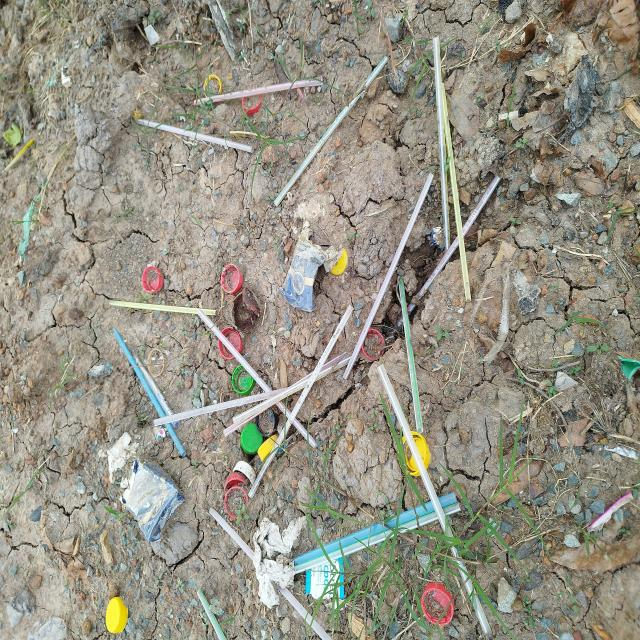drinking straw: (377, 363, 493, 634), (248, 306, 354, 499), (343, 173, 434, 380), (273, 55, 388, 207), (208, 505, 334, 640), (196, 308, 316, 448), (397, 175, 501, 326), (113, 328, 186, 457), (441, 83, 472, 301), (154, 388, 288, 427), (136, 118, 254, 154), (194, 76, 323, 106), (433, 36, 449, 250), (108, 299, 218, 316), (197, 587, 226, 640)
packet: (119, 456, 185, 543)
